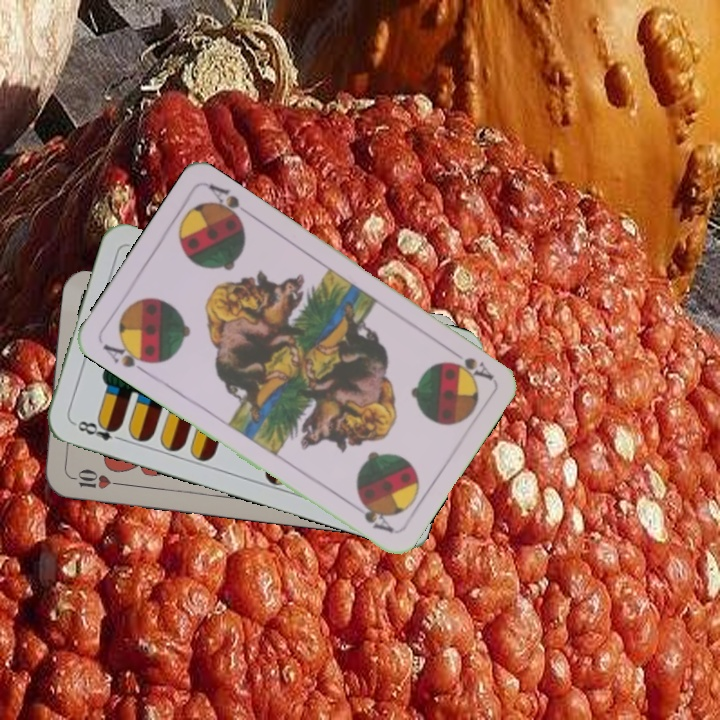E8: (69, 416, 127, 444)
H10: (64, 465, 123, 491)
SA: (98, 336, 156, 377), (443, 343, 496, 384)
